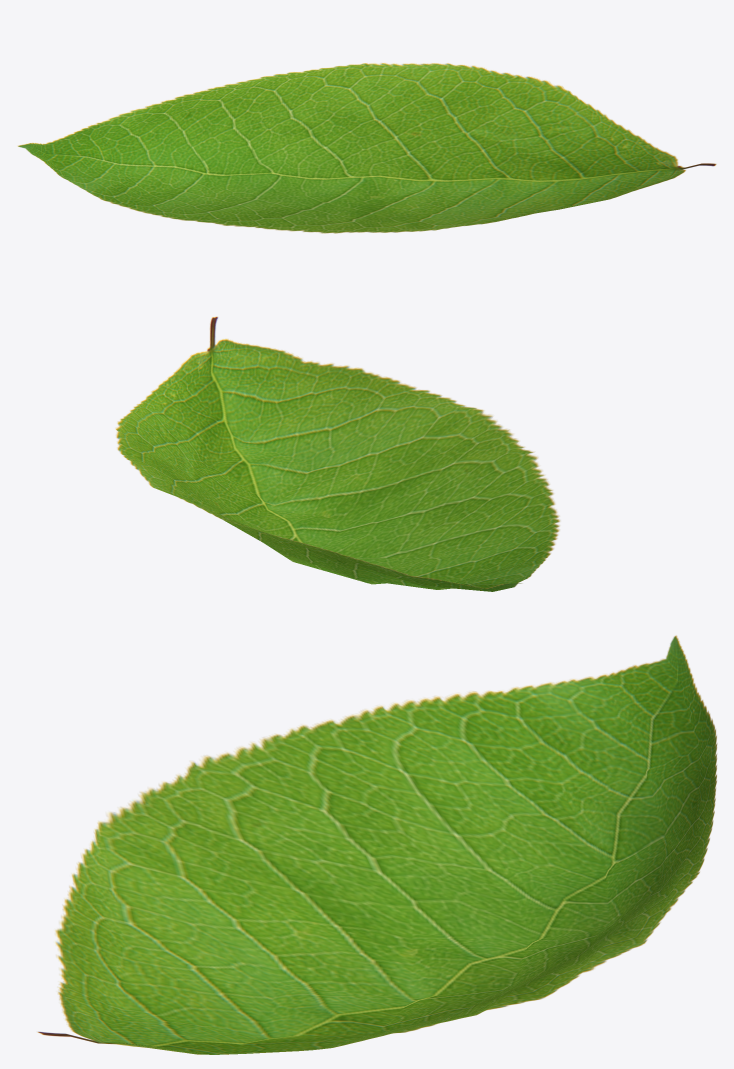
The model's file is summer.gltf.
The picture shows the model from 3 angles, top to bottom: view 1: azimuth 30°, elevation 25°; view 2: azimuth 150°, elevation 25°; view 3: azimuth 270°, elevation 25°; orthographic projection. The views are drawn at different scales.
Visible parts, largest first — view 1: Daco_5640142; view 2: Daco_5640142; view 3: Daco_5640142.
Part boxes in pixels (box(x1,y1,x2,y2)): Daco_5640142: box(17, 63, 716, 233); Daco_5640142: box(115, 316, 560, 591); Daco_5640142: box(37, 635, 717, 1054).
Bounding box in the file's own units: 1.7 × 0.2198 × 1.21.
1 material, 1 textured.
